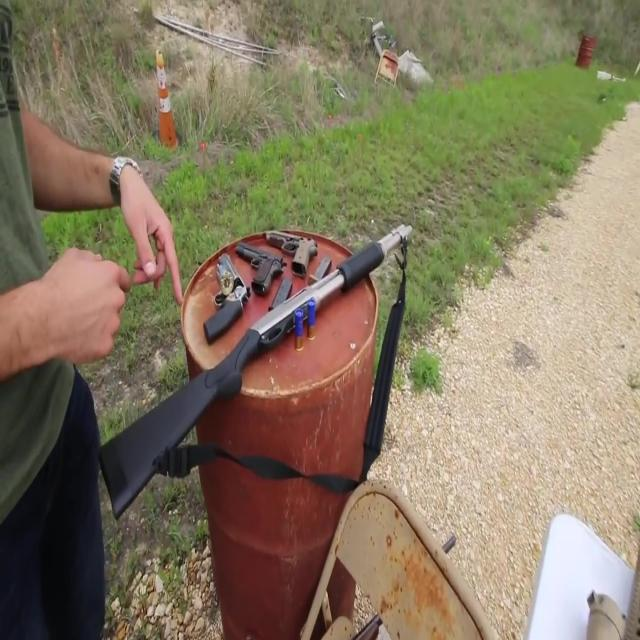Weapon: (32, 193, 414, 616)
